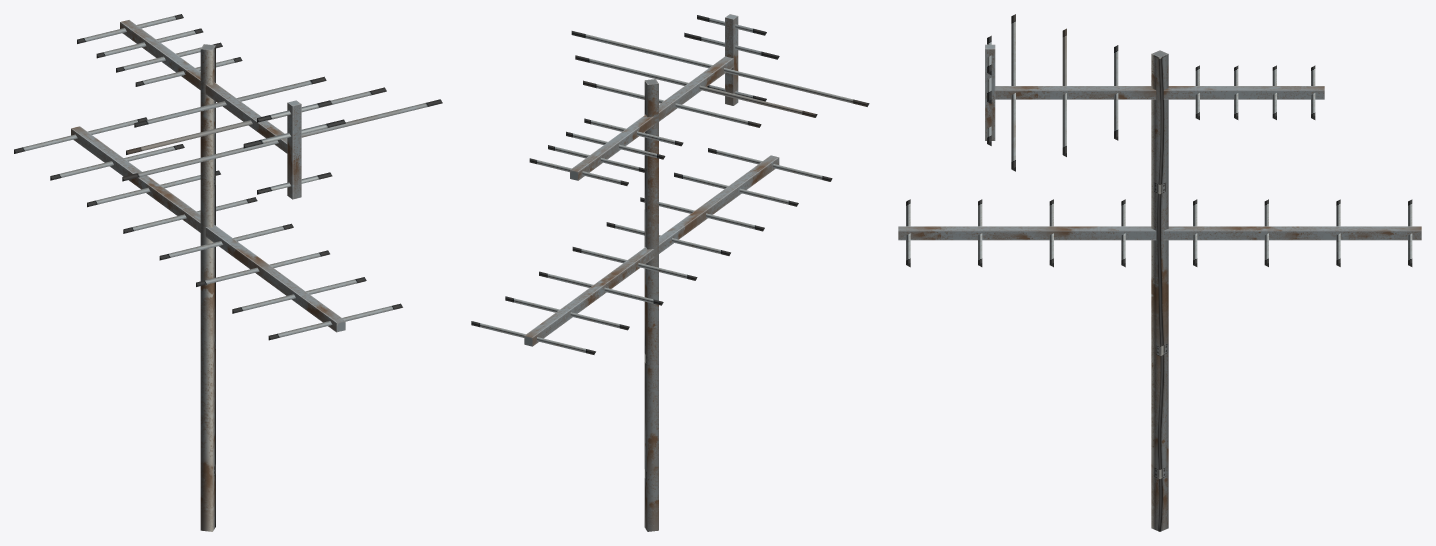
File: antenna03.FBX
3 views of the same model, side by side, from view 1: azimuth 30°, elevation 25°; view 2: azimuth 150°, elevation 25°; view 3: azimuth 270°, elevation 25° (orthographic). The views are drawn at different scales.
Visible parts, largest first — view 1: antenna03_part1, antenna03_part2, antenna03; view 2: antenna03_part1, antenna03_part2, antenna03; view 3: antenna03_part2, antenna03, antenna03_part1.
Boxes of the visible parts, box(x1,y1,x2,y2) form: antenna03_part1: box(77, 14, 442, 199); antenna03_part2: box(14, 117, 402, 340); antenna03: box(200, 44, 215, 531); antenna03_part1: box(529, 14, 869, 185); antenna03_part2: box(471, 148, 832, 354); antenna03: box(644, 79, 658, 531); antenna03_part2: box(898, 199, 1421, 267); antenna03: box(1151, 50, 1168, 531); antenna03_part1: box(985, 14, 1324, 171).
Size of the model in its own units: 208 by 304 by 300.
